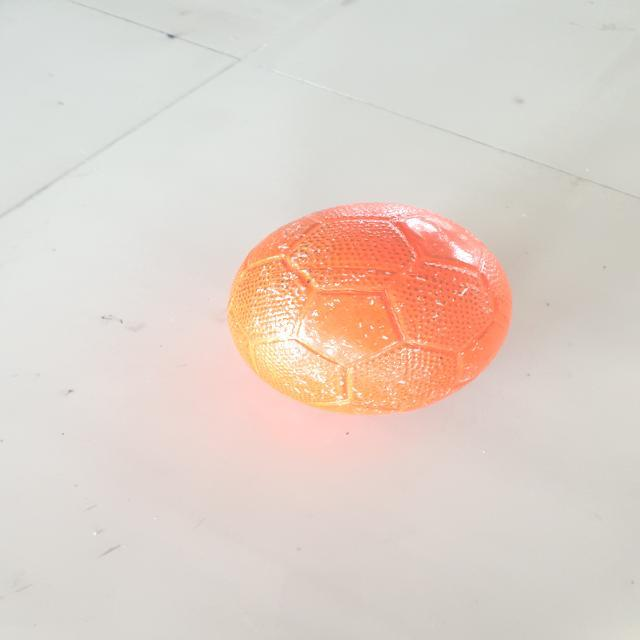bola: (218, 187, 528, 426)
